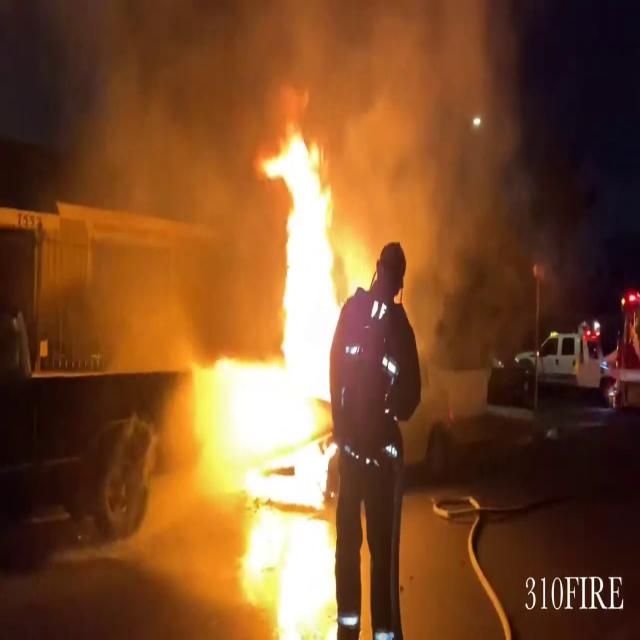Fire: (184, 119, 348, 636)
